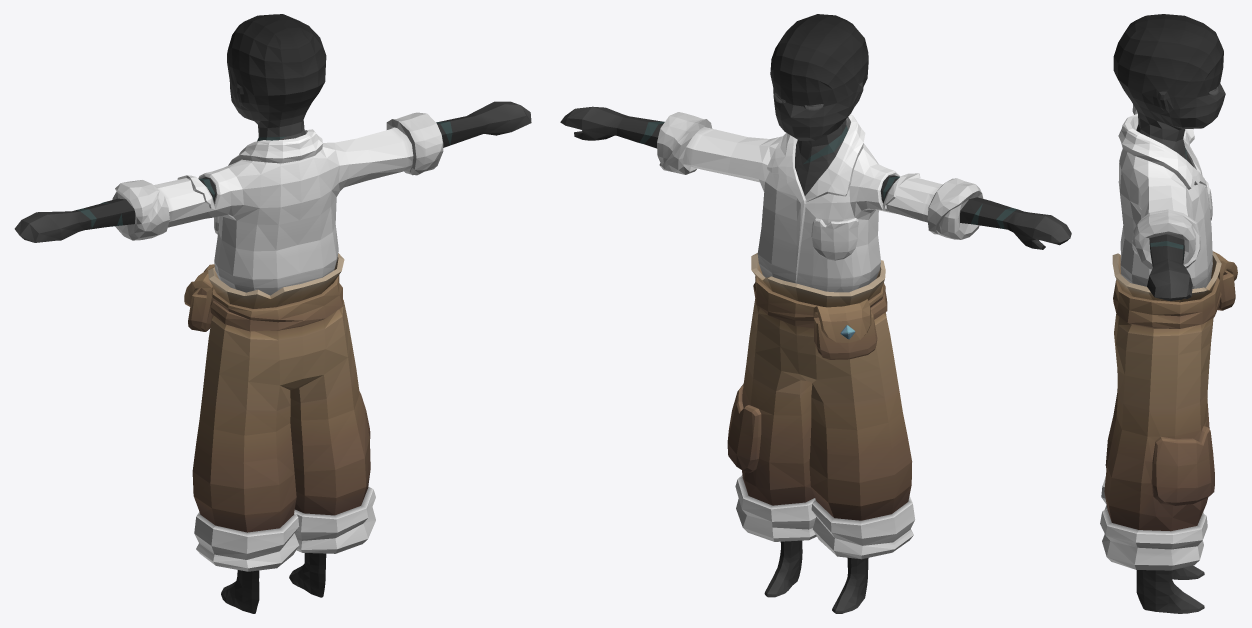
Rendered from CharSkyKid_Body_AP32CargoBroken.glb.
The picture shows the model from 3 angles, left to right: view 1: azimuth 30°, elevation 25°; view 2: azimuth 150°, elevation 25°; view 3: azimuth 270°, elevation 25°; orthographic projection.
Visible parts, largest first — view 1: CharSkyKid_Body_AP32CargoBroken; view 2: CharSkyKid_Body_AP32CargoBroken; view 3: CharSkyKid_Body_AP32CargoBroken.
Part boxes in pixels (x1=…): CharSkyKid_Body_AP32CargoBroken: x1=14, y1=14, x2=531, y2=613; CharSkyKid_Body_AP32CargoBroken: x1=560, y1=14, x2=1071, y2=613; CharSkyKid_Body_AP32CargoBroken: x1=1100, y1=14, x2=1237, y2=613.
Size of the model in its own units: 13.83 by 14.94 by 3.25.
Materials: 1 (1 with a texture image).
